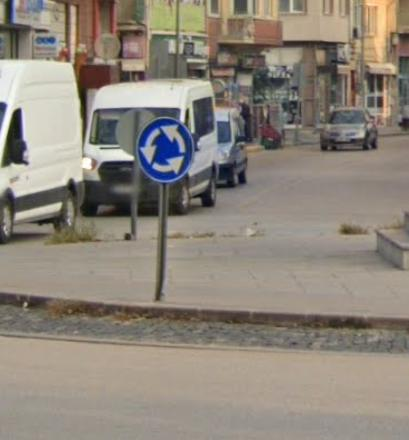crossroads: (138, 117, 193, 183)
